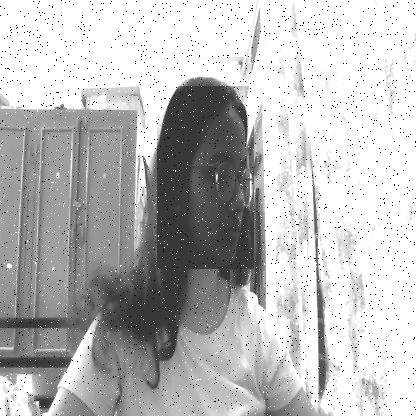Distracted: (157, 86, 254, 269)
